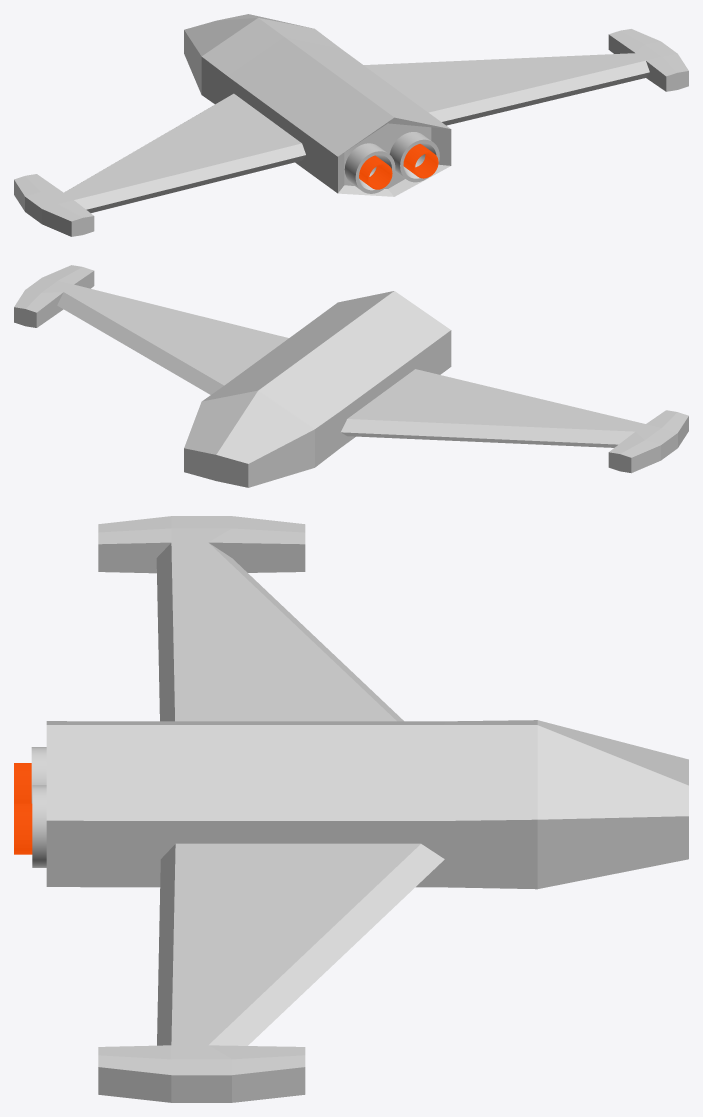
Rendered from low_poly_fighter_2.gltf.
3 views of the same model, one above another, from view 1: azimuth 30°, elevation 25°; view 2: azimuth 150°, elevation 25°; view 3: azimuth 270°, elevation 25° (orthographic). The views are drawn at different scales.
Visible parts, largest first — view 1: Plane, Cylinder, Cylinder.001, Cylinder.003, Cylinder.002; view 2: Plane; view 3: Plane, Cylinder.001, Cylinder.003.
Boxes of the visible parts, x1,y1,x2,y2 form: Plane: [14, 14, 688, 236]; Cylinder: [344, 143, 395, 193]; Cylinder.001: [389, 132, 439, 182]; Cylinder.003: [403, 144, 438, 178]; Cylinder.002: [359, 155, 392, 189]; Plane: [14, 265, 688, 487]; Plane: [46, 516, 688, 1102]; Cylinder.001: [32, 785, 46, 867]; Cylinder.003: [14, 803, 32, 854].
Bounding box in the file's own units: 4 × 0.477 × 2.04.
